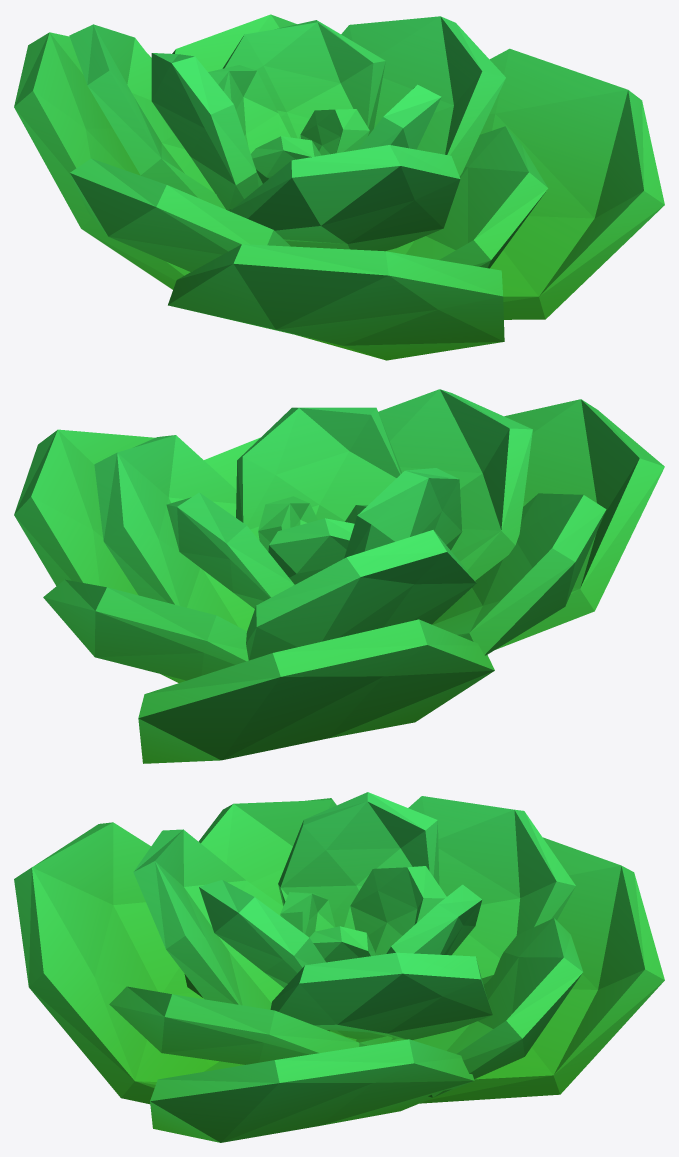
File: lettuce.fbx
3 views of the same model, one above another, from view 1: azimuth 30°, elevation 25°; view 2: azimuth 150°, elevation 25°; view 3: azimuth 270°, elevation 25° (orthographic). The views are drawn at different scales.
Visible parts, largest first — view 1: lettuce; view 2: lettuce; view 3: lettuce.
Part boxes in pixels (x1,y1,x2,y2): lettuce: [14, 14, 664, 360]; lettuce: [14, 389, 664, 763]; lettuce: [14, 792, 664, 1142].
Bounding box in the file's own units: 177 × 86.84 × 197.
